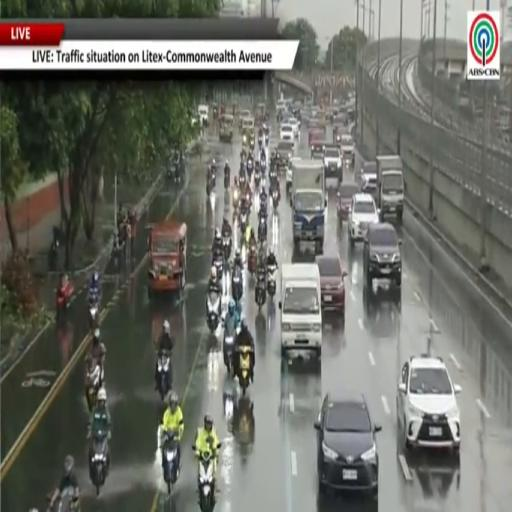car: (315, 393, 381, 500), (397, 355, 461, 455), (363, 222, 402, 290), (316, 255, 347, 313), (348, 194, 378, 247), (337, 182, 360, 222), (324, 144, 342, 188), (286, 157, 301, 194), (340, 134, 355, 167), (276, 141, 293, 170), (324, 146, 342, 173), (310, 140, 325, 160), (239, 109, 251, 131), (309, 128, 323, 146), (198, 105, 209, 126), (280, 124, 294, 140), (288, 118, 299, 138), (308, 118, 321, 130)
jeepney: (148, 220, 187, 297), (219, 115, 233, 142), (242, 117, 254, 147), (239, 109, 251, 133), (255, 102, 266, 123)
motorcycle: (162, 430, 180, 493), (90, 431, 107, 495), (86, 362, 104, 412), (47, 486, 80, 511), (237, 346, 252, 395), (157, 351, 171, 401), (56, 286, 72, 323), (223, 331, 236, 376), (207, 293, 220, 333), (255, 276, 266, 310), (48, 239, 59, 271), (232, 266, 242, 301), (89, 300, 99, 329), (267, 266, 276, 298), (248, 248, 257, 275), (223, 236, 232, 261), (175, 160, 184, 183), (214, 254, 223, 277), (258, 217, 266, 242), (239, 211, 247, 235), (269, 167, 278, 188), (271, 188, 279, 210), (254, 170, 262, 188), (233, 188, 239, 211), (246, 159, 253, 177), (239, 174, 246, 190), (206, 180, 212, 197), (261, 154, 266, 171), (249, 136, 254, 152), (224, 174, 229, 189), (258, 136, 263, 147), (265, 135, 269, 147), (217, 443, 221, 450)
truck: (290, 160, 327, 251), (376, 155, 404, 223)
